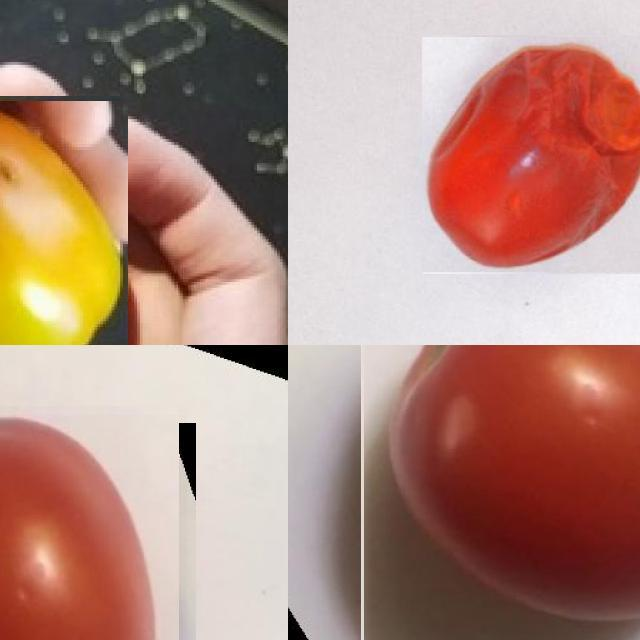Fresh Tomato: (362, 345, 640, 640), (0, 414, 187, 640)
Rotten Tomato: (422, 36, 640, 273), (0, 98, 125, 345)
